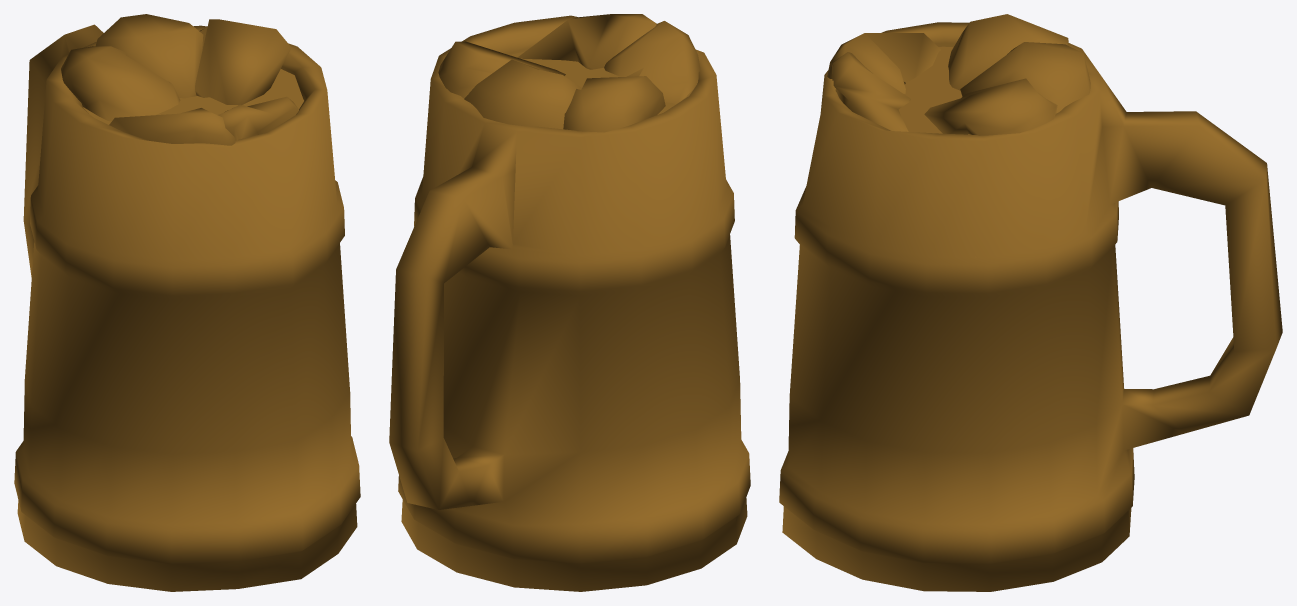
File: Beer.fbx
3 renders of one model, left to right at view 1: azimuth 30°, elevation 25°; view 2: azimuth 150°, elevation 25°; view 3: azimuth 270°, elevation 25°, orthographic.
Visible parts, largest first — view 1: Beer, BeerLiquid4/4; view 2: Beer, BeerLiquid4/4; view 3: Beer, BeerLiquid4/4.
Boxes of the visible parts, box(x1,y1,x2,y2) form: Beer: box(14, 24, 360, 591); BeerLiquid4/4: box(61, 14, 303, 145); Beer: box(389, 15, 750, 591); BeerLiquid4/4: box(438, 14, 700, 132); Beer: box(779, 22, 1282, 591); BeerLiquid4/4: box(827, 14, 1090, 135).
Size of the model in its own units: 10.2 by 15.26 by 14.86.
